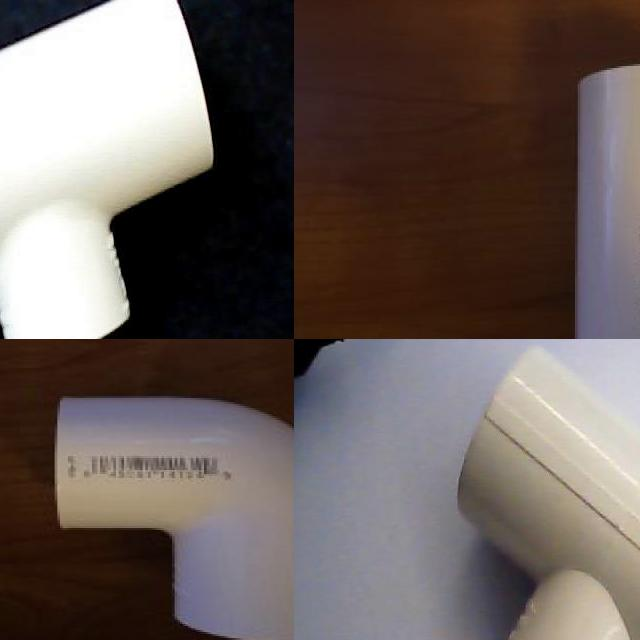L Joint: (52, 397, 294, 640)
T Joint: (456, 346, 640, 640), (573, 66, 640, 339)
